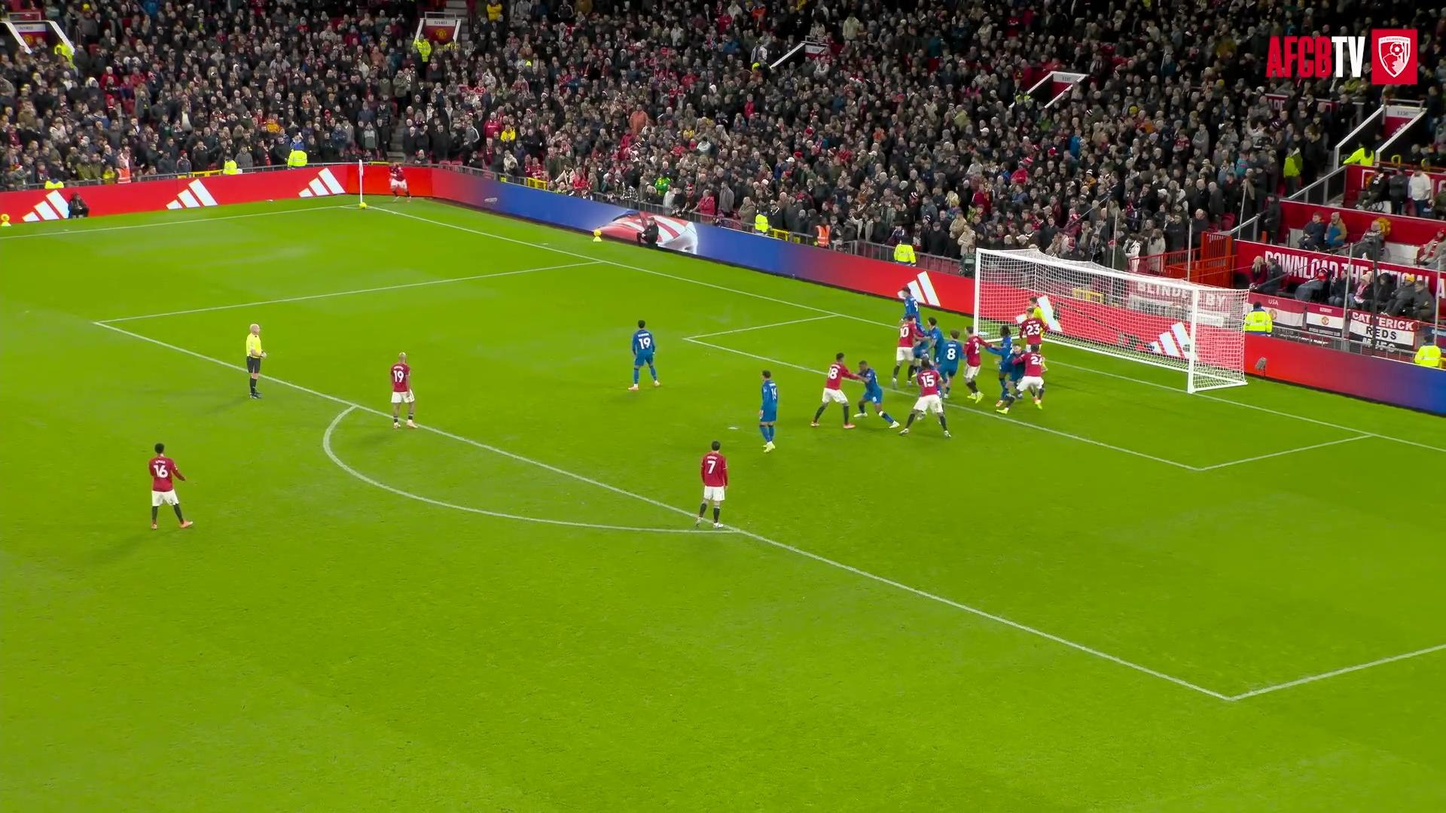football: (354, 199, 373, 213)
player: (900, 359, 950, 437), (148, 443, 193, 529), (811, 352, 859, 428), (996, 349, 1044, 413), (855, 360, 899, 428), (695, 440, 728, 528), (984, 326, 1013, 406), (629, 320, 660, 390), (996, 343, 1028, 408), (892, 319, 922, 386), (390, 352, 416, 428), (935, 330, 963, 398), (964, 328, 987, 402), (759, 370, 778, 452), (908, 321, 932, 382), (1020, 297, 1046, 351), (924, 317, 944, 368), (390, 163, 411, 201), (898, 288, 918, 321)
referee: (246, 324, 265, 397)
